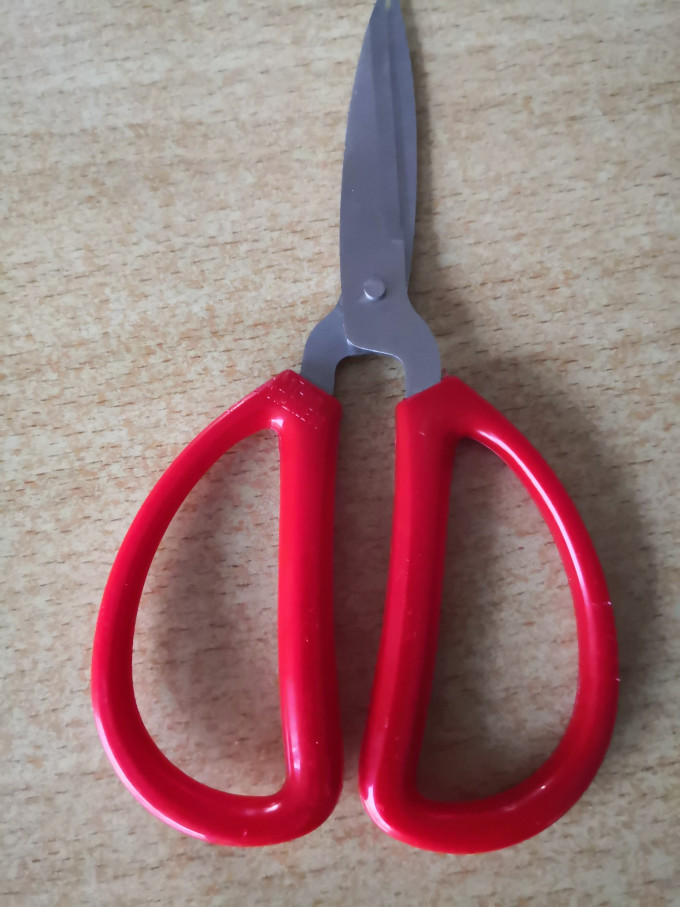scissors: (87, 1, 632, 857)
